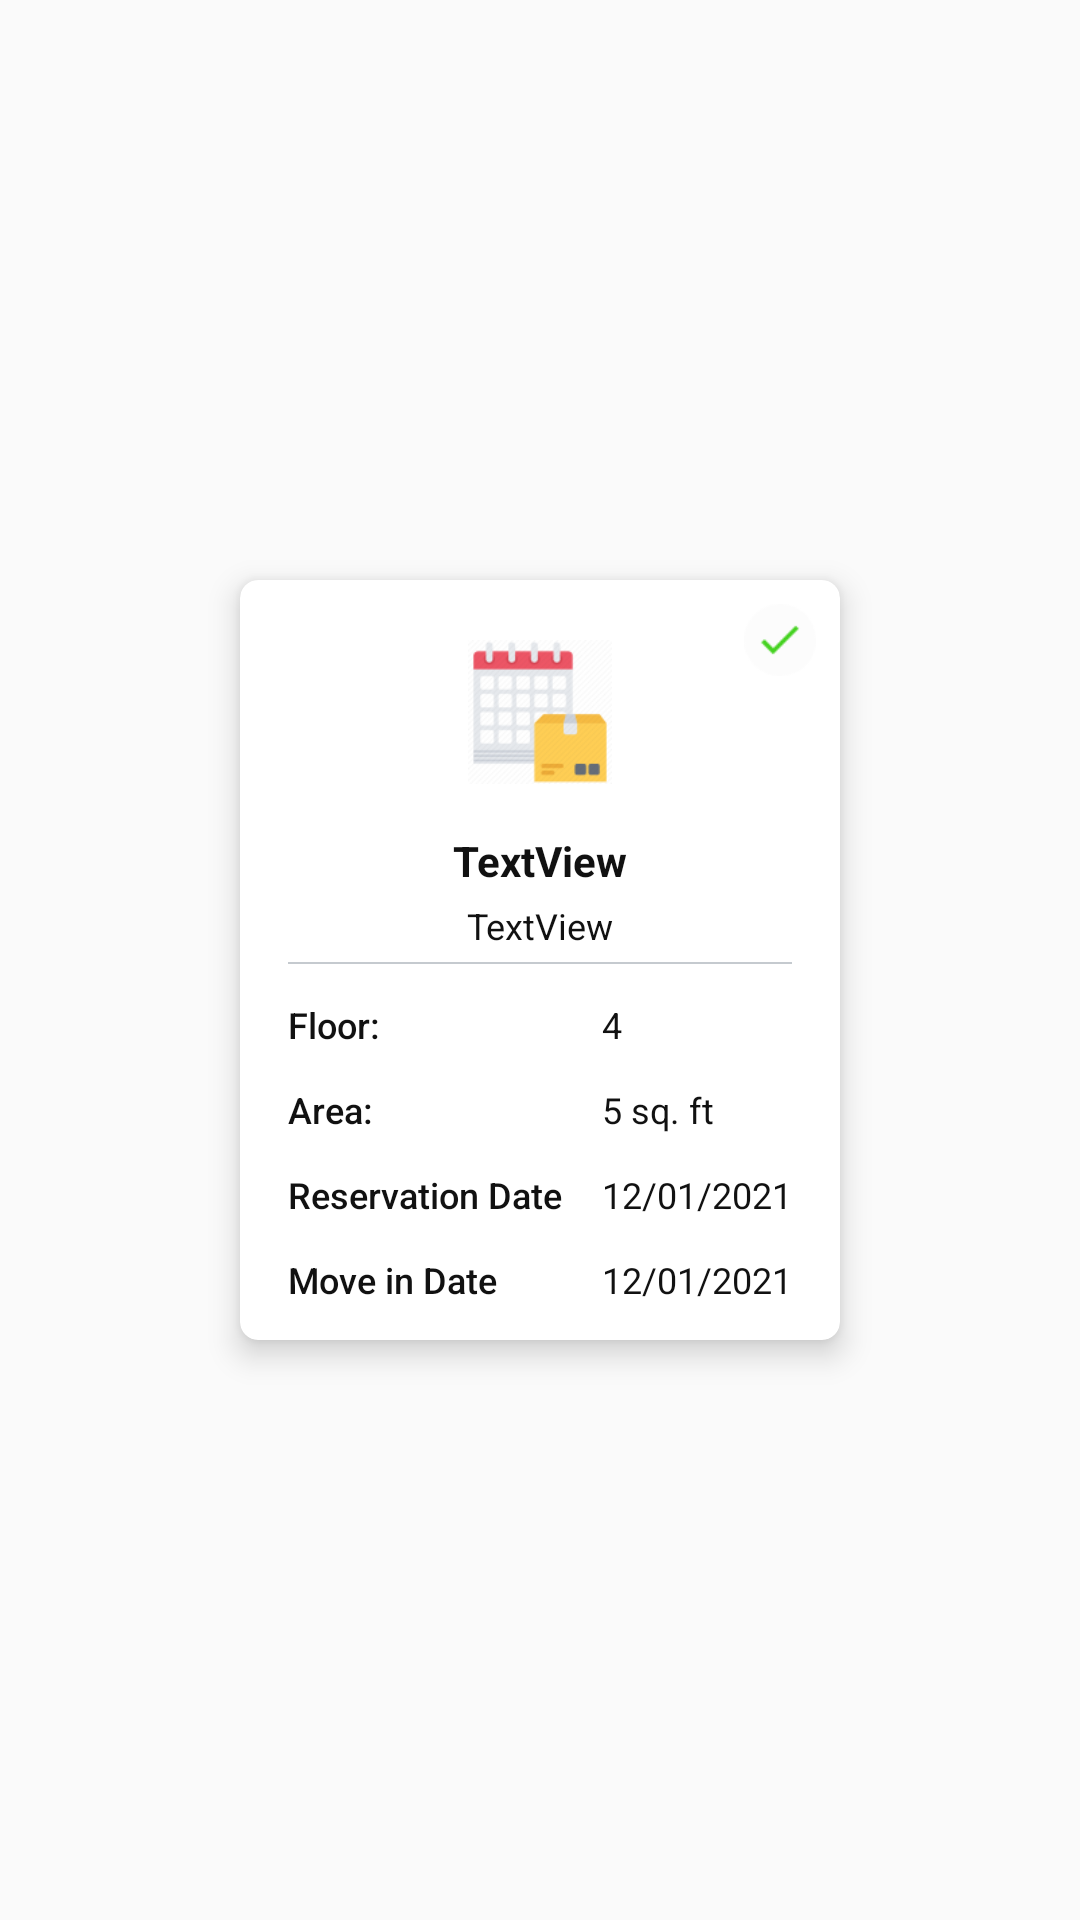

Where to tap for icons on this 1080 x 1920 app screen, as [x,y]:
checked: [780,640]
